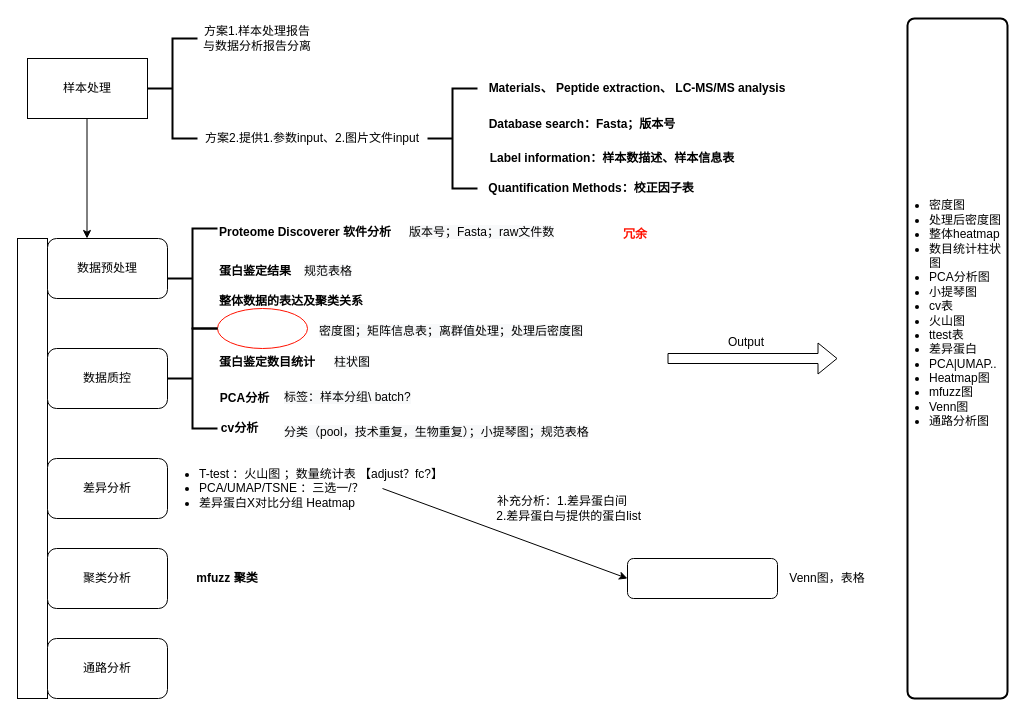
This 1026x716 diagram has some shape labels left out. The shapes that lost their labels are listed below. From the top down, each one's centre as x and y in pixels, then its label:
pixel 262 328: 数据分布情况
pixel 32 468: 数据分析
pixel 702 578: 共有蛋白分析
